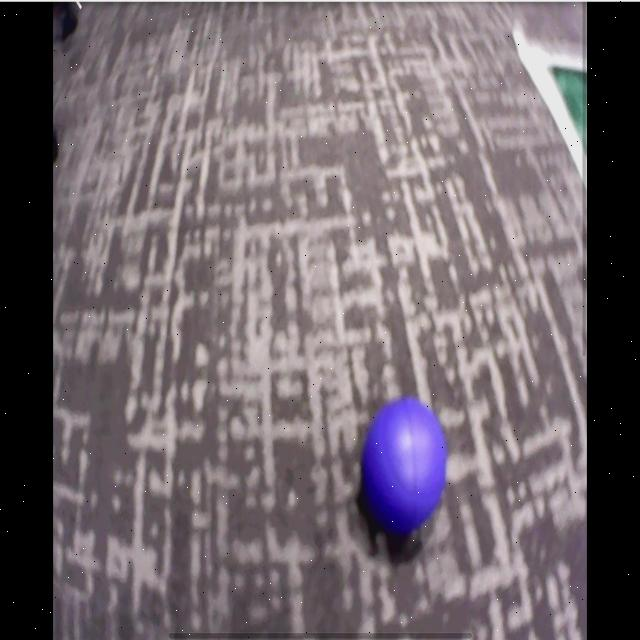ball: (362, 403, 449, 526)
